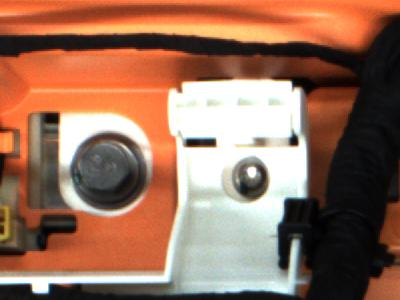nut_b: (63, 129, 156, 214)
